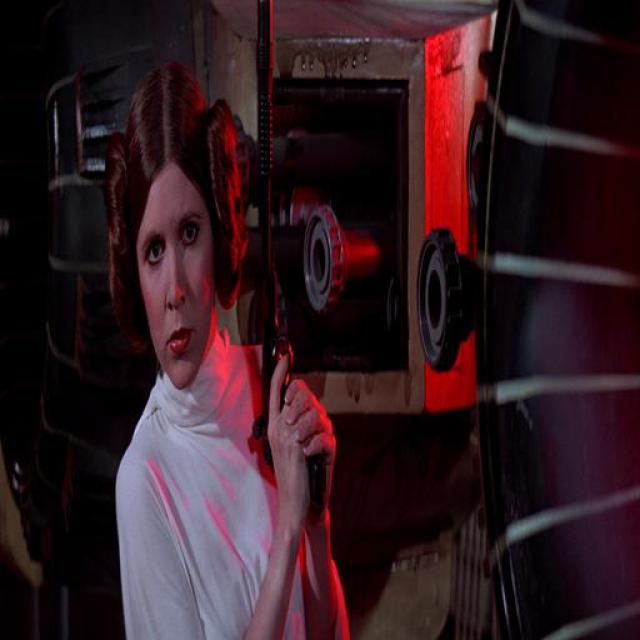pistol: (233, 207, 341, 496)
